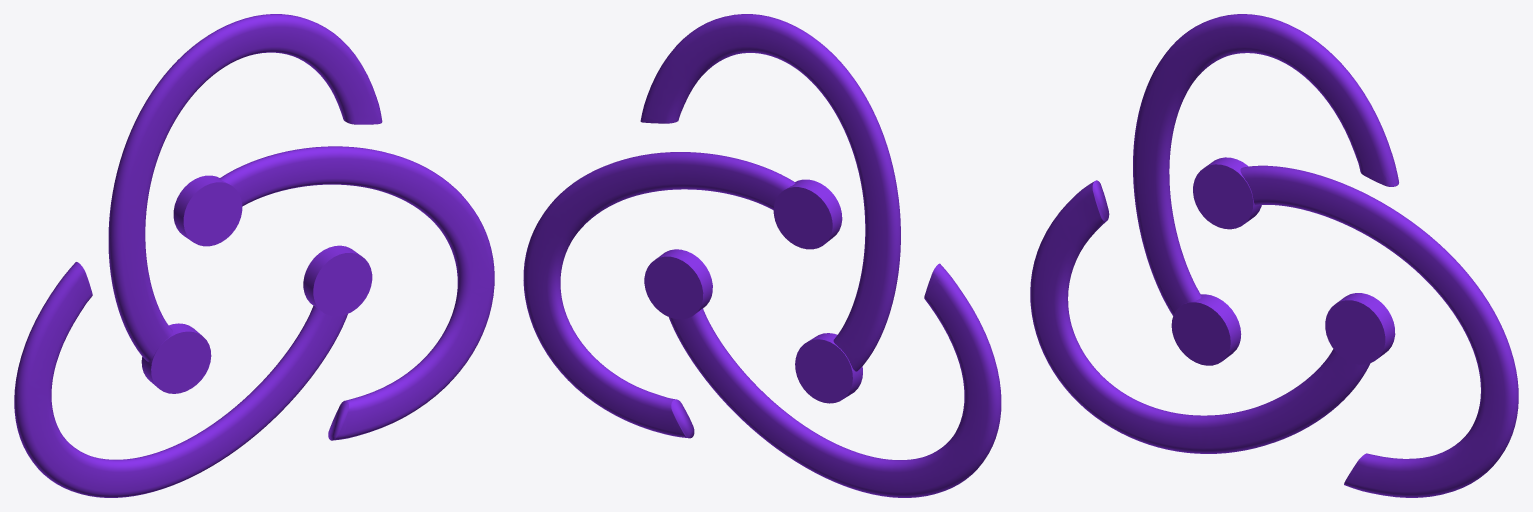
File: Redux.gltf
The picture shows the model from 3 angles, left to right: view 1: azimuth 30°, elevation 25°; view 2: azimuth 150°, elevation 25°; view 3: azimuth 330°, elevation 25°; orthographic projection. The views are drawn at different scales.
Parts seen in each view (by area): view 1: NurbsPath.001; view 2: NurbsPath.001; view 3: NurbsPath.001.
Part boxes in pixels (x1,y1,x2,y2): NurbsPath.001: [14, 14, 494, 497]; NurbsPath.001: [523, 14, 1001, 497]; NurbsPath.001: [1030, 14, 1518, 497].
Size of the model in its own units: 266 by 239 by 18.44.
